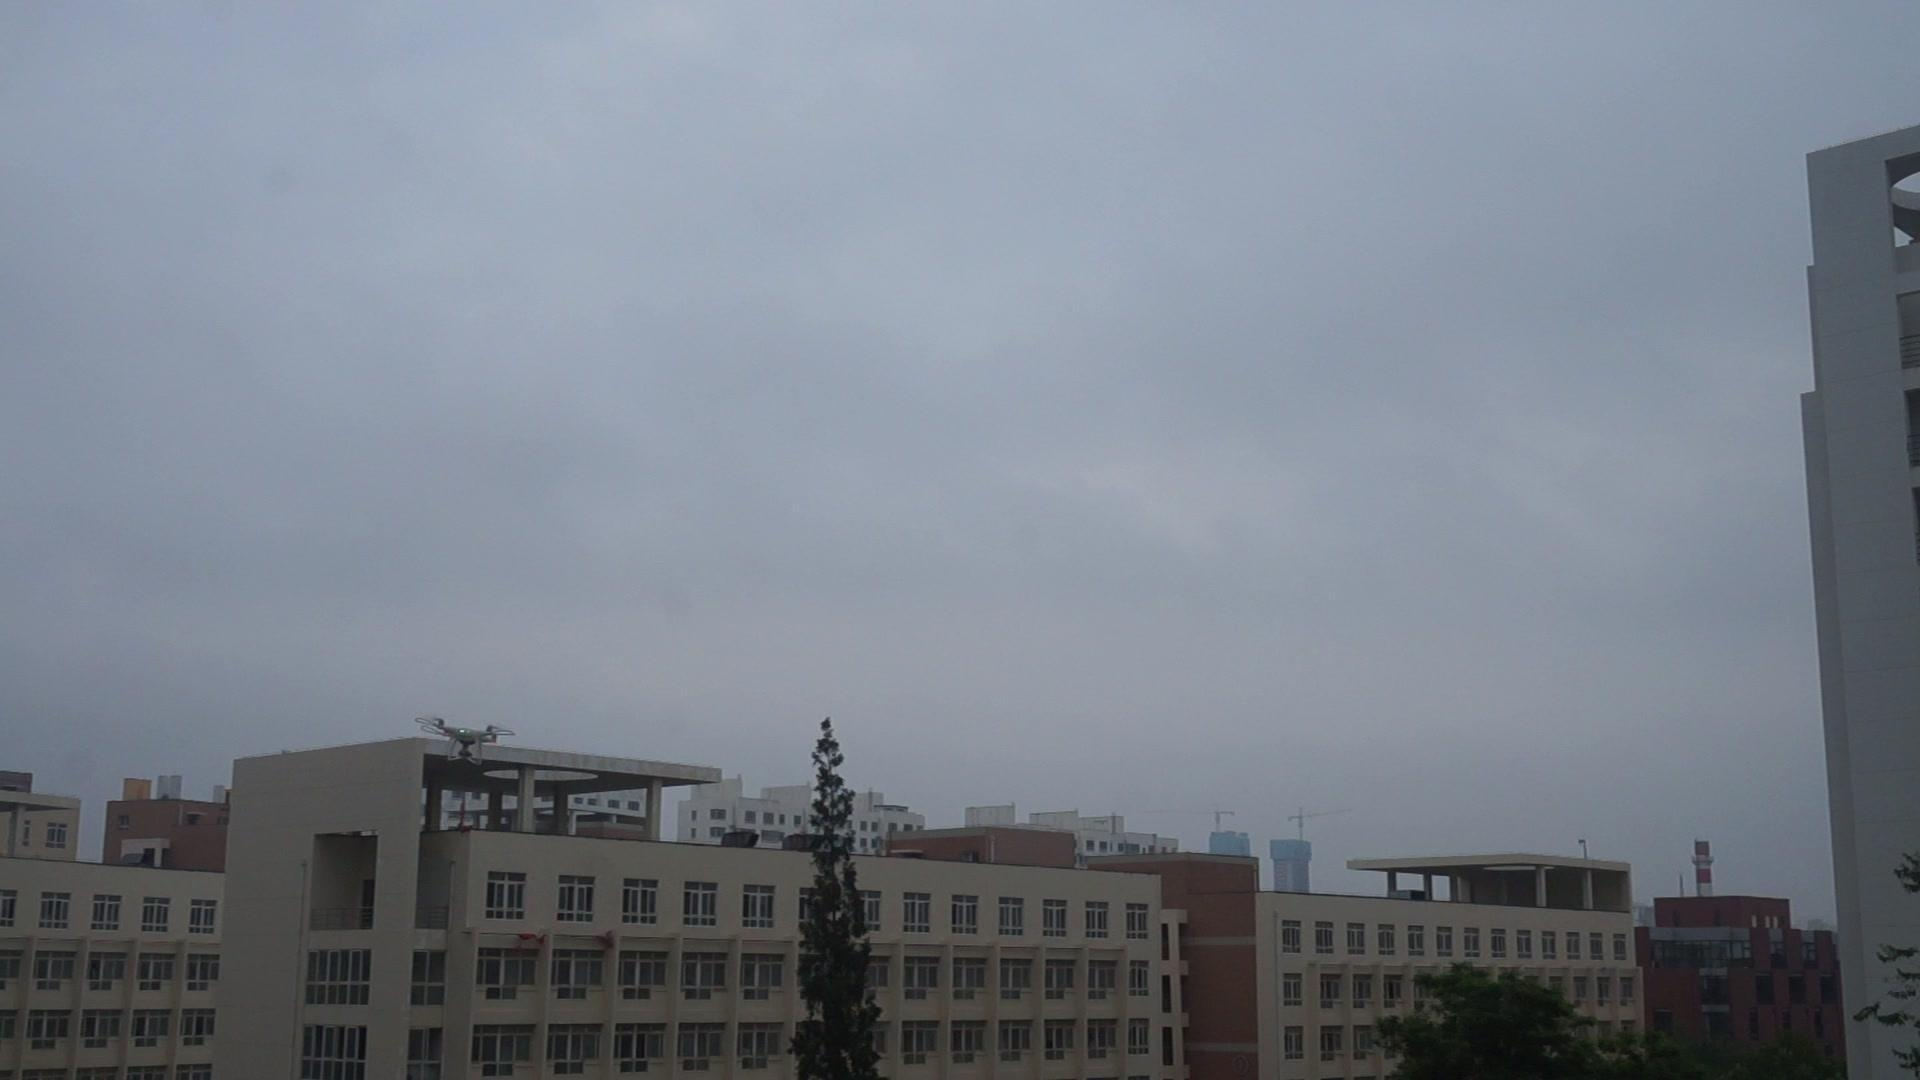UAV: (415, 719, 516, 766)
